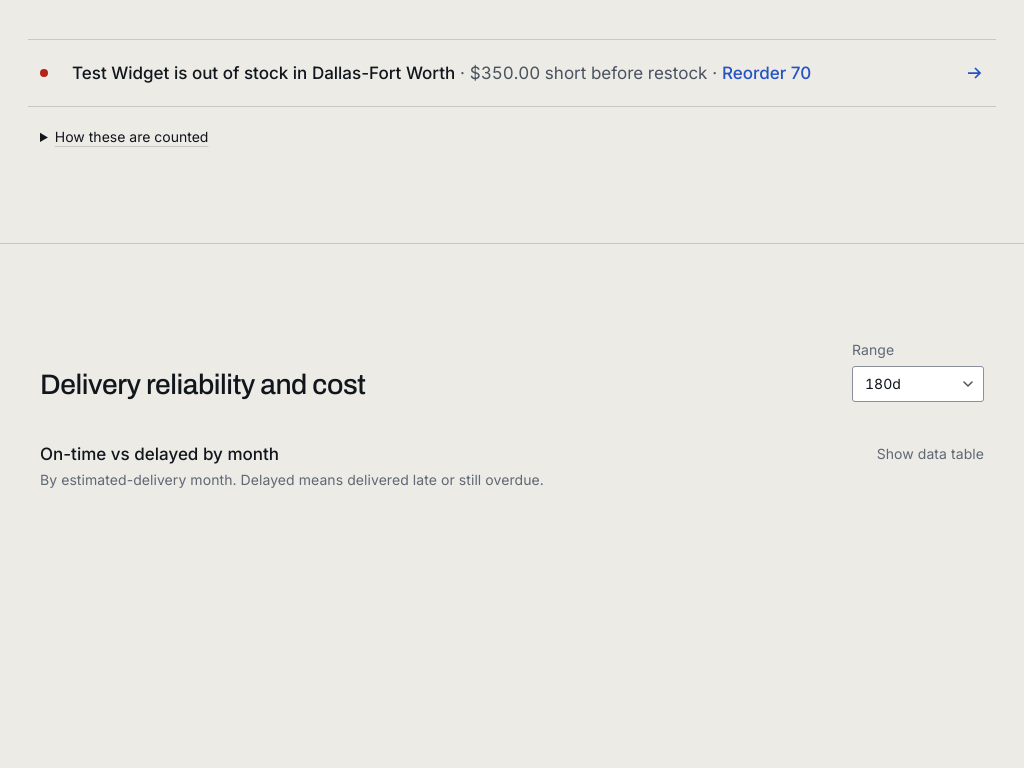
Dashboard (Atlas): interaction and accessibility › the Range select still drives both flow charts
(page scrolled)
Select "30d" in the dropdown labelled "Range" at [918, 384], box [852,366,984,402]
(page scrolled)
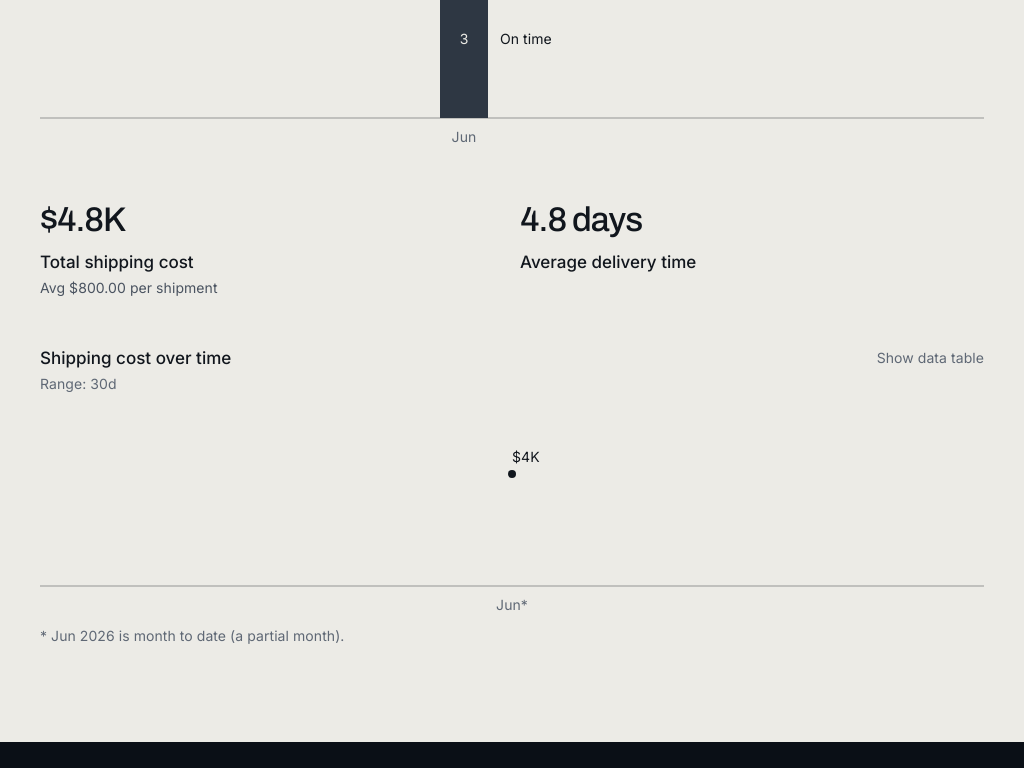
Expected: the text "Range: 30d" is shown, [40,375,116,392]
